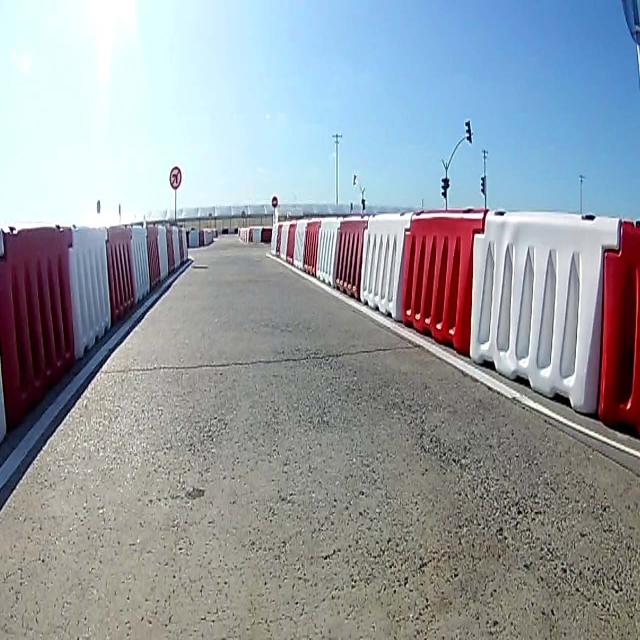soladonulmez: (169, 165, 183, 187)
